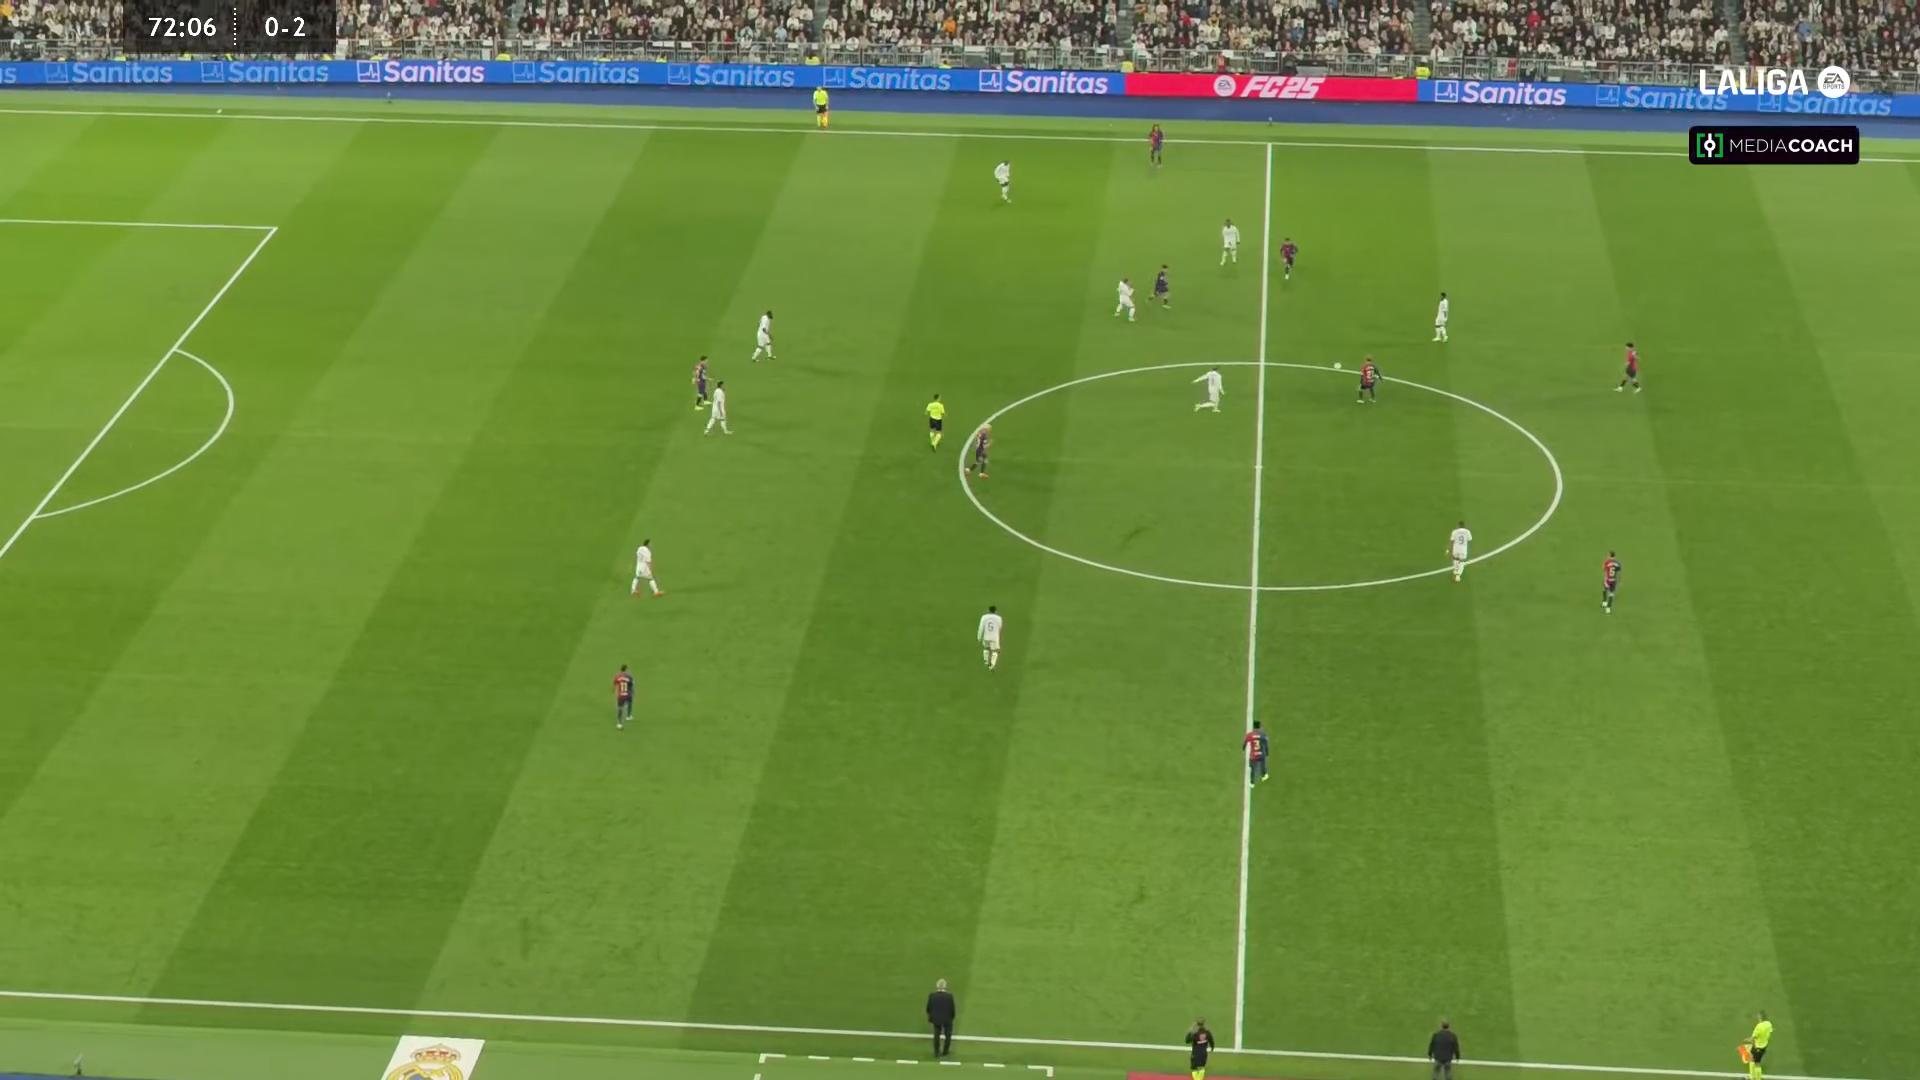ball: (1334, 362, 1341, 369)
player: (629, 537, 664, 597), (1241, 719, 1269, 785), (975, 604, 1002, 671), (701, 379, 732, 435), (1445, 518, 1471, 582), (1190, 367, 1224, 413), (611, 663, 634, 729), (1615, 341, 1641, 393), (967, 423, 992, 477), (1599, 549, 1620, 613), (750, 309, 775, 361), (1356, 355, 1380, 403), (1112, 276, 1136, 322), (1148, 264, 1172, 309), (690, 355, 709, 410), (1218, 217, 1239, 266), (1431, 290, 1450, 342), (993, 159, 1012, 204), (1279, 235, 1297, 279), (1146, 123, 1164, 165)
referee: (924, 391, 945, 450), (812, 84, 830, 130)
